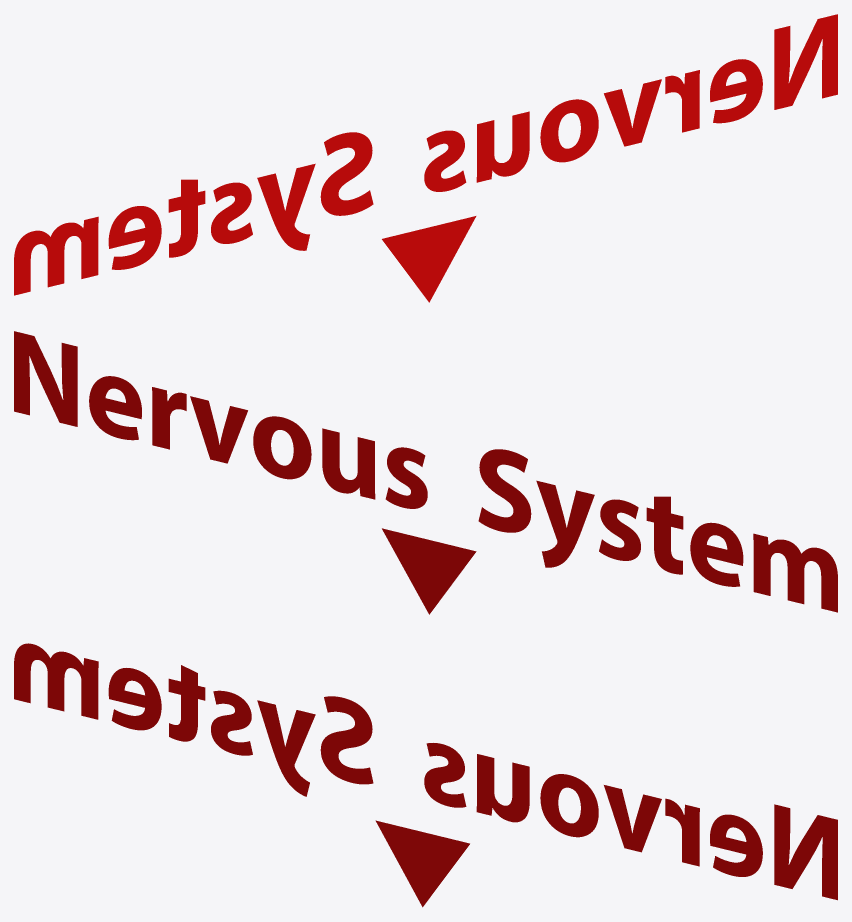
The model's file is Nervous System FBX.FBX.
The picture shows the model from 3 angles, top to bottom: view 1: azimuth 30°, elevation 25°; view 2: azimuth 150°, elevation 25°; view 3: azimuth 330°, elevation 25°; orthographic projection.
Visible parts, largest first — view 1: Nervous System_TXT, Arrow; view 2: Nervous System_TXT, Arrow; view 3: Nervous System_TXT, Arrow.
Part boxes in pixels (x1,y1,x2,y2): Nervous System_TXT: (14,14,837,295); Arrow: (382,216,476,302); Nervous System_TXT: (14,331,837,612); Arrow: (382,528,476,614); Nervous System_TXT: (14,643,837,900); Arrow: (375,820,469,907).
Size of the model in its own units: 175 by 37.92 by 1.23.
